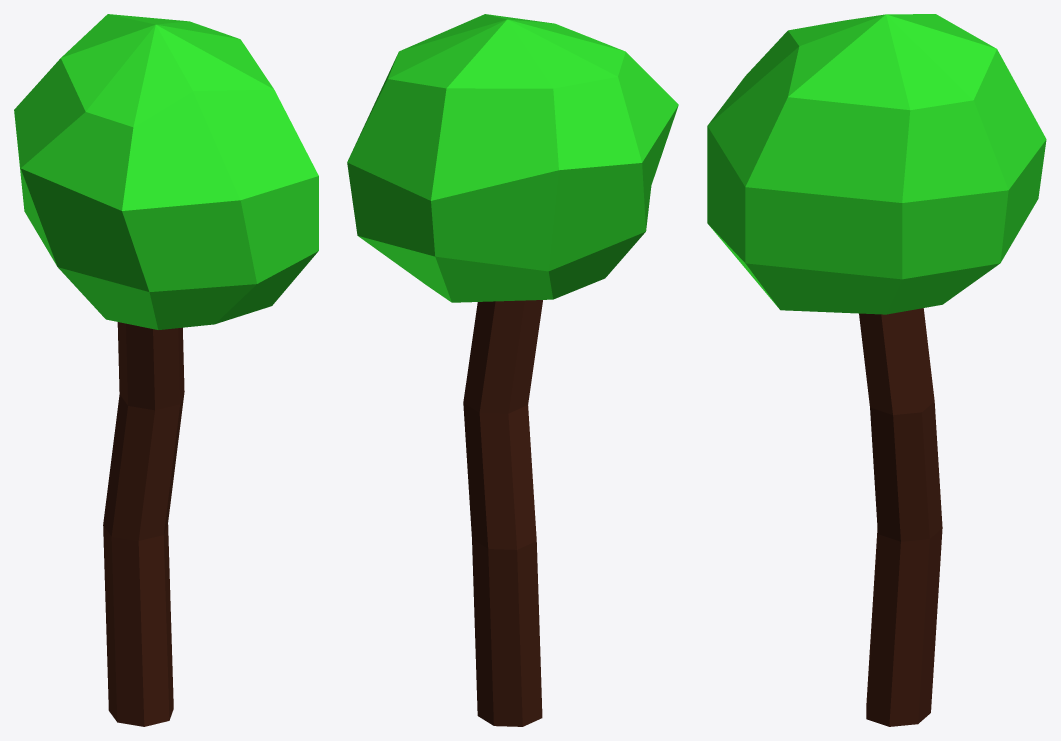
The model's file is Tree1.fbx.
3 renders of one model, left to right at view 1: azimuth 30°, elevation 25°; view 2: azimuth 150°, elevation 25°; view 3: azimuth 270°, elevation 25°, orthographic. The views are drawn at different scales.
Parts seen in each view (by area): view 1: Crown, Trunk; view 2: Crown, Trunk; view 3: Crown, Trunk.
Boxes of the visible parts, x1,y1,x2,y2 form: Crown: (14, 14, 318, 329); Trunk: (103, 322, 184, 726); Crown: (347, 14, 678, 302); Trunk: (463, 300, 542, 726); Crown: (707, 14, 1046, 314); Trunk: (859, 308, 942, 726).
Size of the model in its own units: 452 by 1139 by 498.
